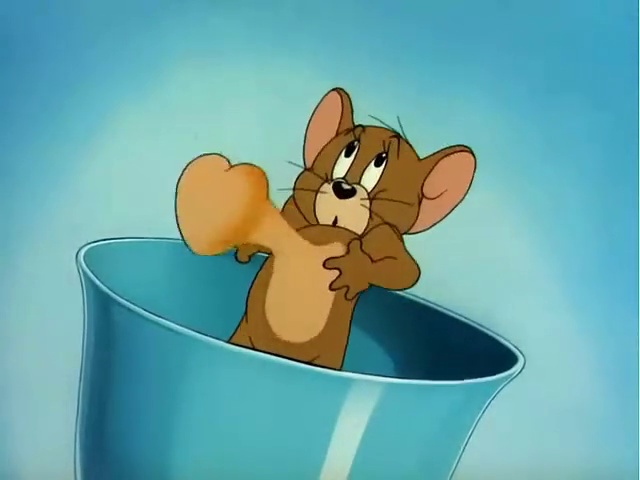jerry: (156, 56, 504, 386)
